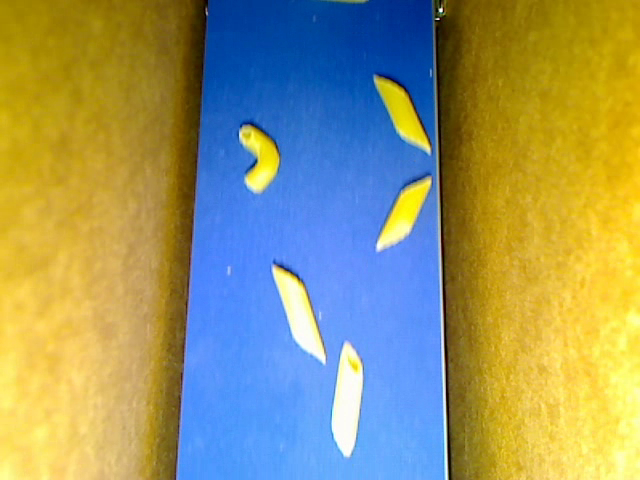elbow: (236, 122, 281, 193)
penne: (266, 263, 326, 367), (376, 75, 432, 156), (375, 174, 434, 249), (331, 337, 364, 462)
